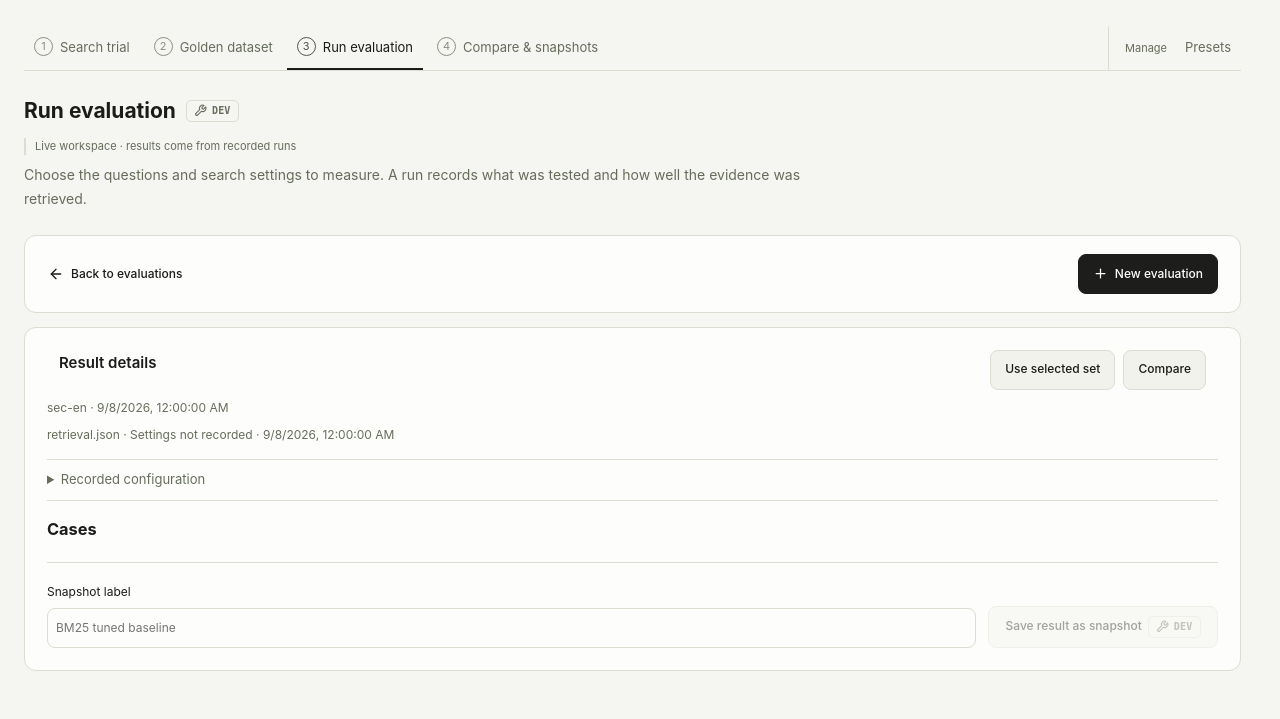
Test: shows snapshot progress and a truthful terminal button state (success=false)
(page scrolled)
In the field labelled "Snapshot label": (512, 628) top-left (47, 608), bottom-right (976, 648), type "testing"
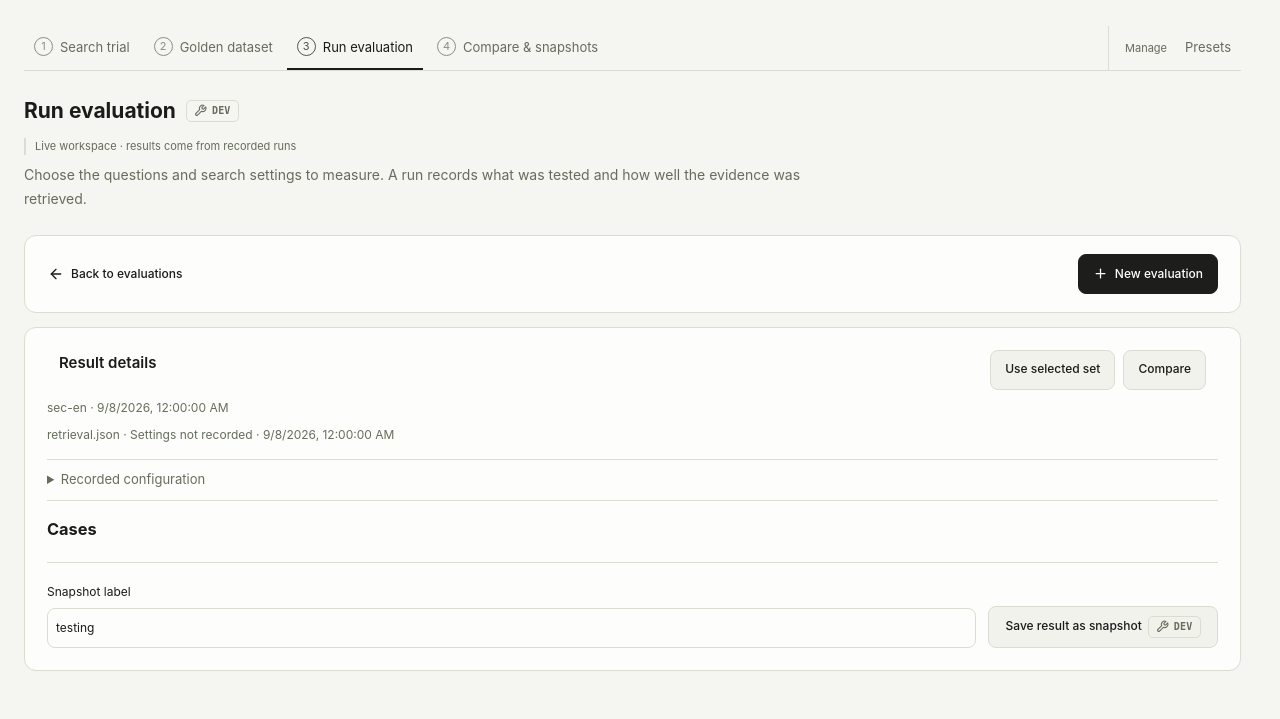
Expected: the button "Save result as snapshot DEV" is enabled
Click the button "Save result as snapshot DEV": (1103, 627) top-left (988, 606), bottom-right (1218, 648)
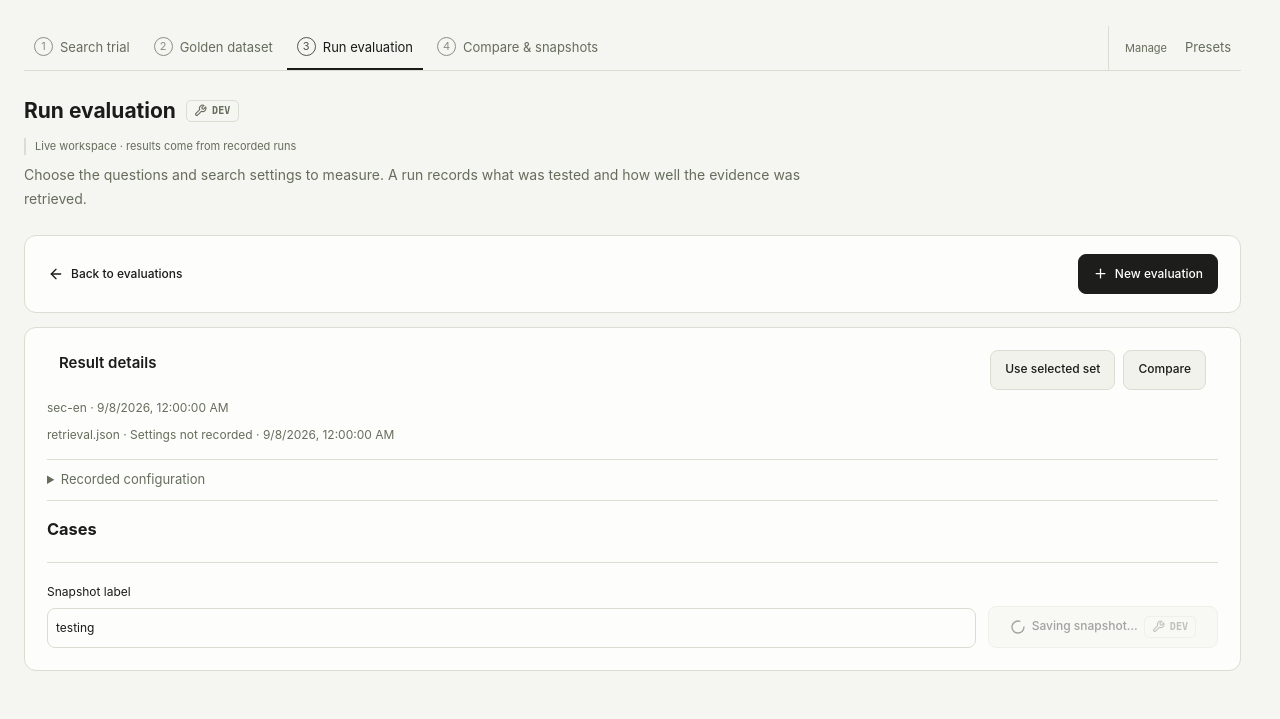
Expected: the button "Saving snapshot… DEV" is disabled
Click the button "Saving snapshot… DEV": (1103, 627) top-left (988, 606), bottom-right (1218, 648)
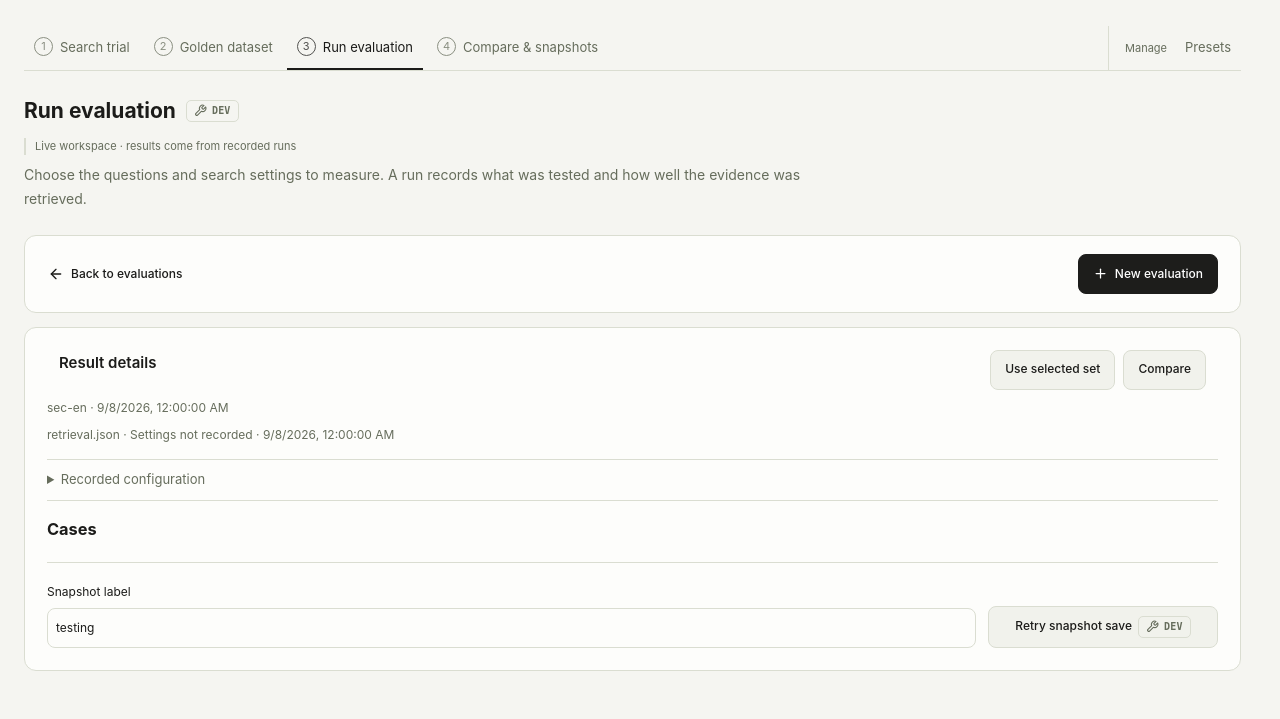
Expected: the button "Retry snapshot save DEV" is enabled, top-left (988, 606), bottom-right (1218, 648)
